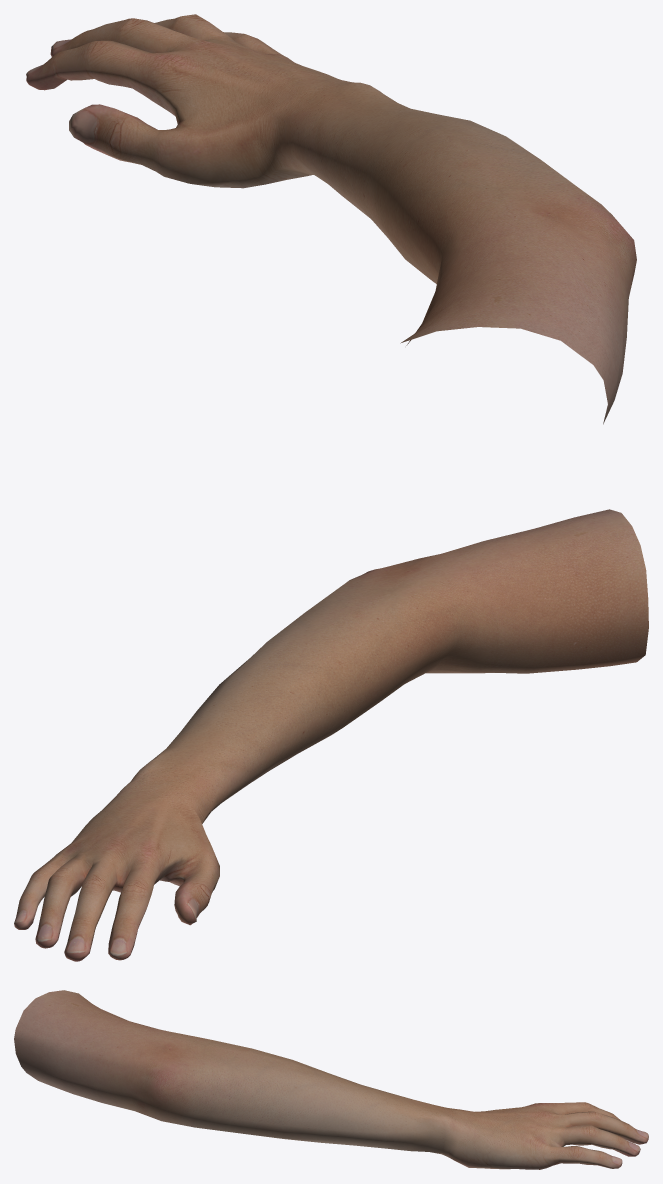
The model's file is right-arm.glb.
3 views of the same model, one above another, from view 1: azimuth 30°, elevation 25°; view 2: azimuth 150°, elevation 25°; view 3: azimuth 270°, elevation 25° (orthographic). The views are drawn at different scales.
Parts seen in each view (by area): view 1: r_arm_pose_LOD1; view 2: r_arm_pose_LOD1; view 3: r_arm_pose_LOD1.
Part boxes in pixels (x1,y1,x2,y2): r_arm_pose_LOD1: (26,14,636,424); r_arm_pose_LOD1: (14,509,648,961); r_arm_pose_LOD1: (14,990,648,1169).
Size of the model in its own units: 0.2291 by 0.1275 by 0.6614.
1 material, 1 textured.
